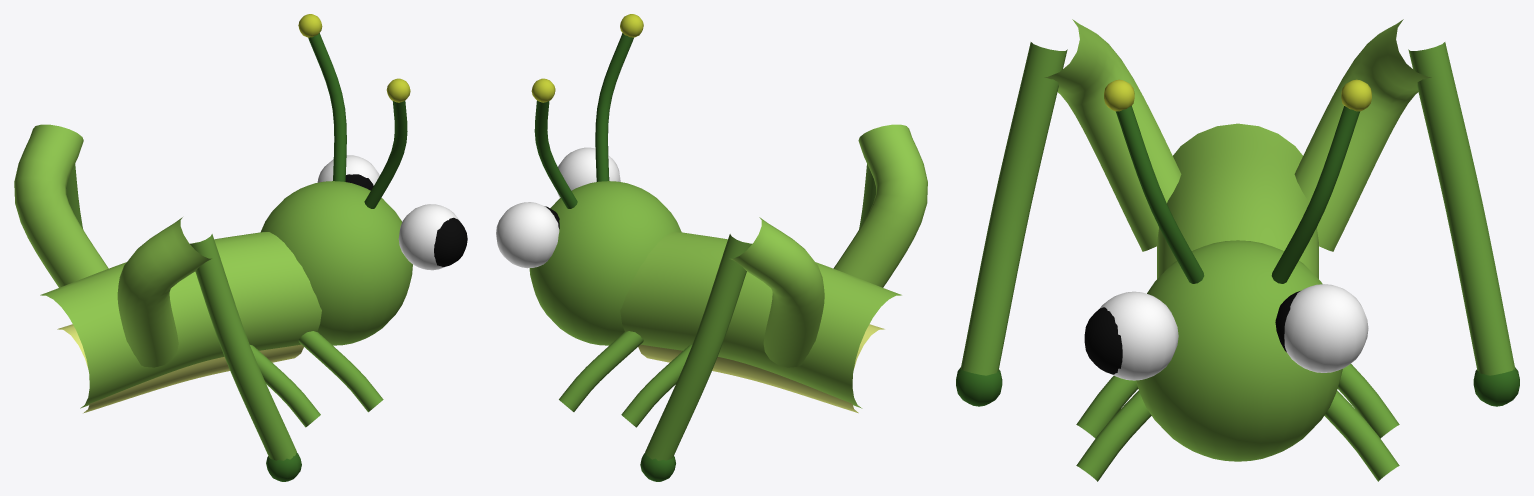
The model's file is belalang.glb.
The picture shows the model from 3 angles, left to right: view 1: azimuth 30°, elevation 25°; view 2: azimuth 150°, elevation 25°; view 3: azimuth 270°, elevation 25°; orthographic projection. The views are drawn at different scales.
Bounding box in the file's own units: 1.06 × 0.885 × 1.05.
